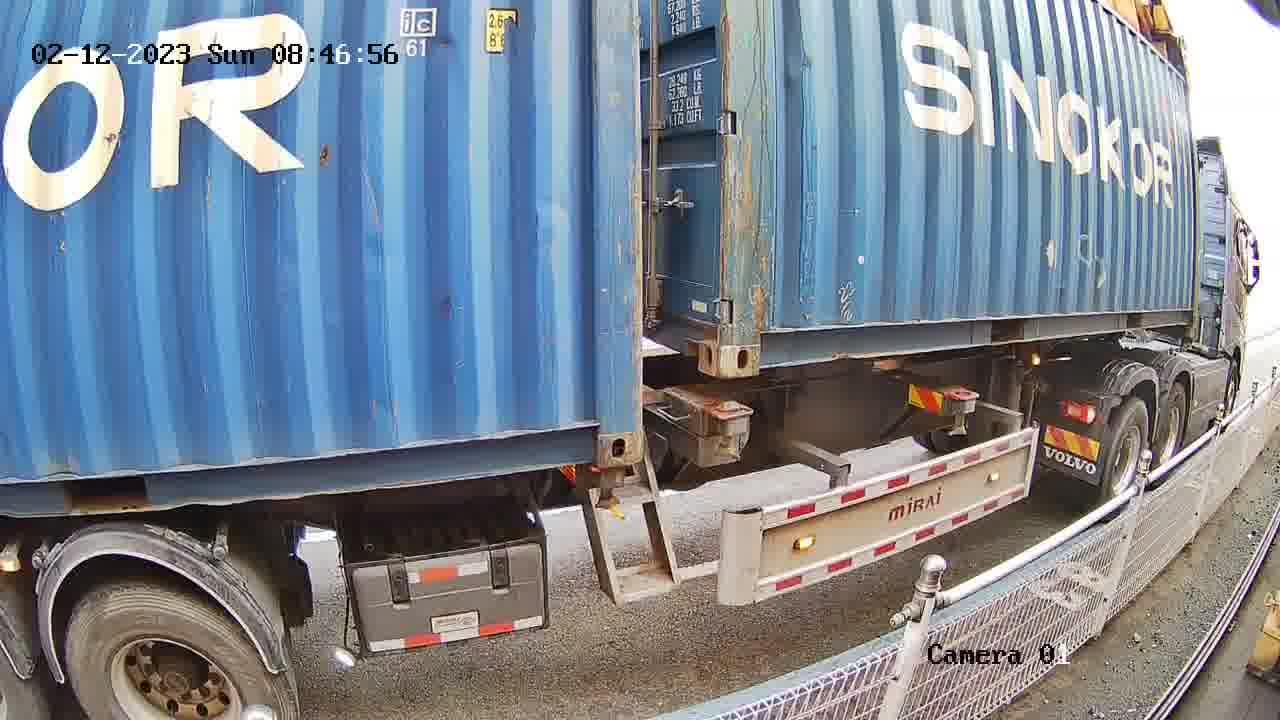Cone: (710, 402, 757, 462), (588, 470, 626, 515)
Hole_L: (718, 304, 797, 380)
Hole_R: (556, 396, 642, 475), (674, 297, 721, 379)
Tire: (66, 585, 281, 718), (1101, 400, 1149, 516), (1152, 386, 1187, 486)
